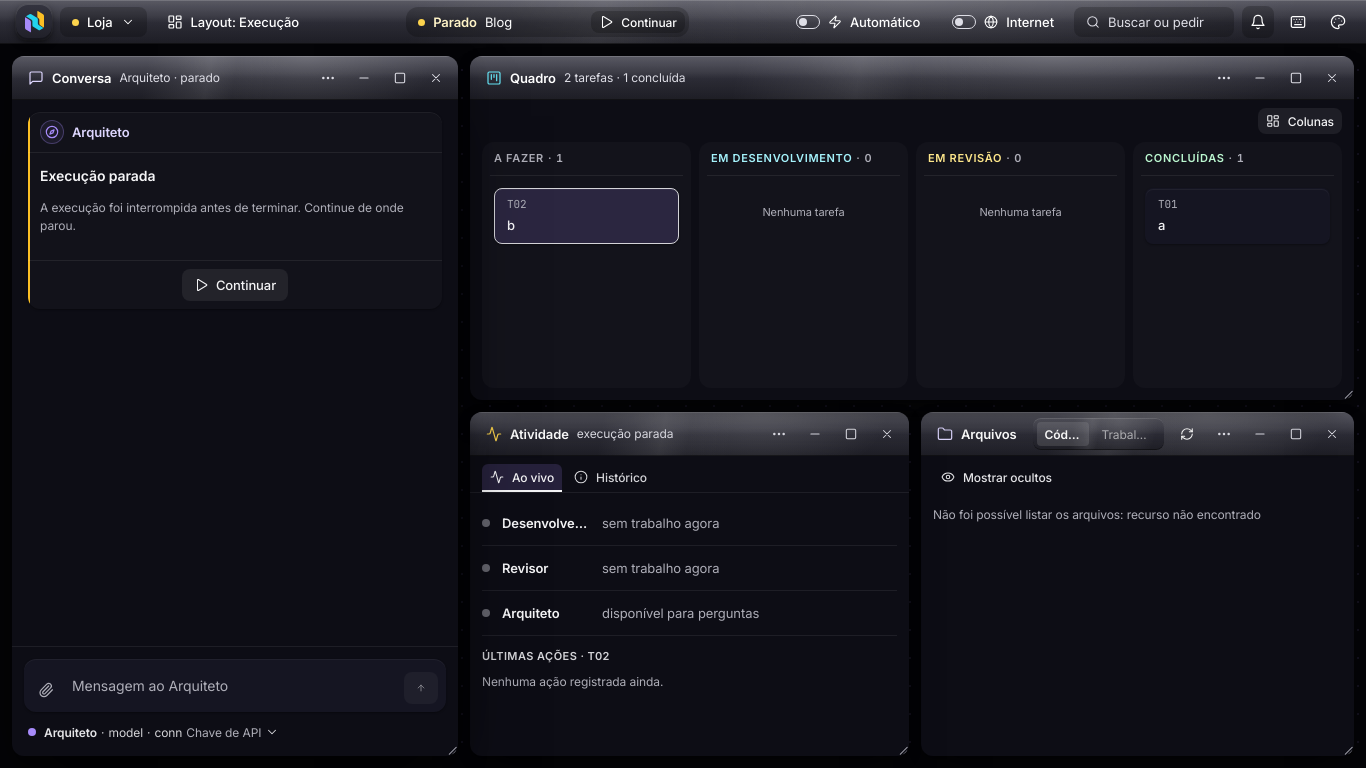
Shell: barra superior › pílula: execução parada mostra Continuar (resume); erro aparece em role=alert
Expected: the element showing "Parado Blog Continuar" is shown, x1=406 y1=7 x2=689 y2=37
Click the button "Continuar" next to "Blog" at (638, 22), box x1=591 y1=11 x2=685 y2=33
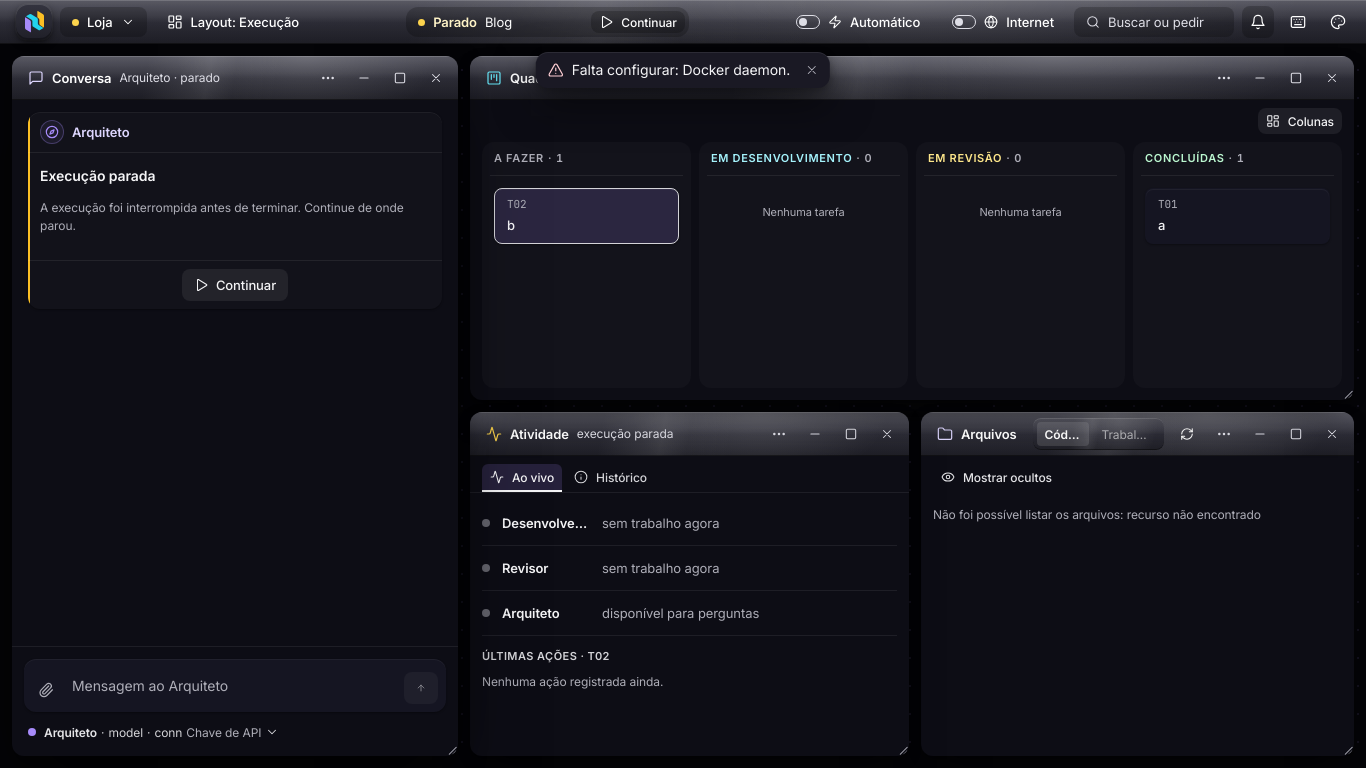
Now the message "Falta configurar: Docker daemon." is shown, box x1=536 y1=52 x2=830 y2=88
